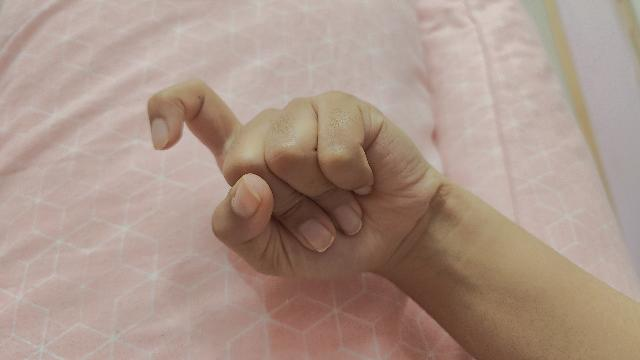tamrachud: (147, 79, 640, 360)
